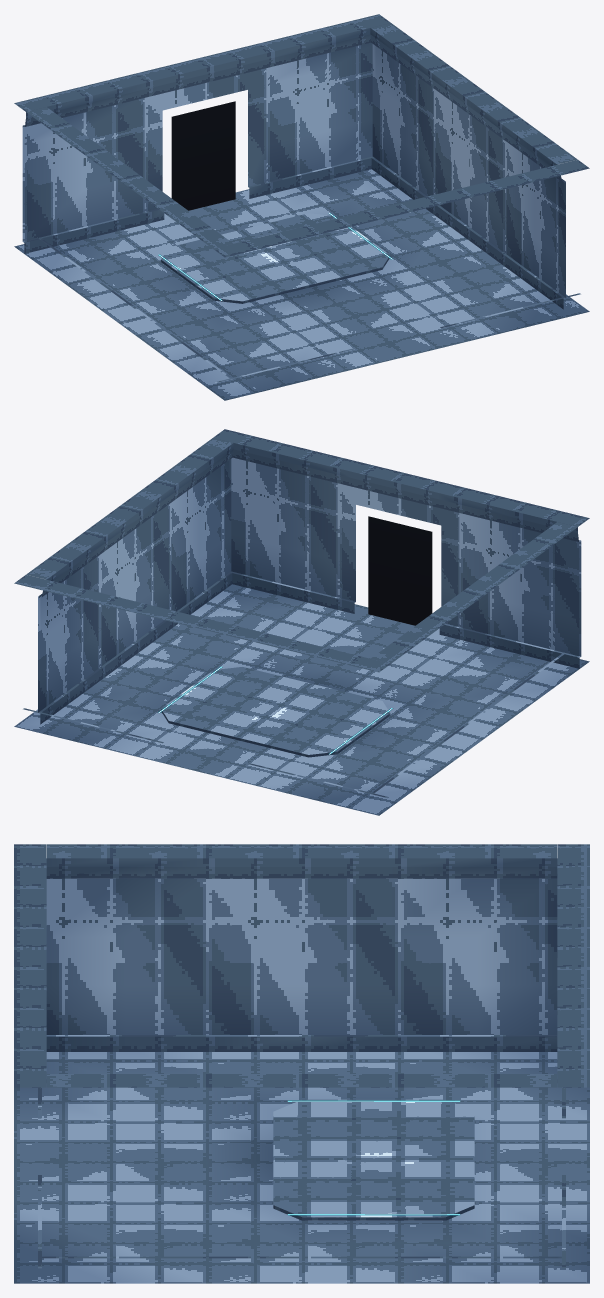
The model's file is cyroom.club.glb.
3 renders of one model, top to bottom at view 1: azimuth 30°, elevation 25°; view 2: azimuth 150°, elevation 25°; view 3: azimuth 270°, elevation 25°, orthographic. The views are drawn at different scales.
Visible parts, largest first — view 1: kit_shell_walls, kit_shell_floor, kit_trim, kit_card_lights; view 2: kit_shell_walls, kit_shell_floor, kit_trim, kit_card_lights; view 3: kit_shell_walls, kit_shell_floor, kit_trim, kit_card_lights.
Boxes of the visible parts, left/top/right/bottom form: kit_shell_walls: left=14, top=14, right=589, bottom=383; kit_shell_floor: left=14, top=169, right=589, bottom=400; kit_trim: left=161, top=213, right=390, bottom=303; kit_card_lights: left=158, top=101, right=392, bottom=300; kit_shell_walls: left=14, top=429, right=589, bottom=798; kit_shell_floor: left=14, top=584, right=589, bottom=815; kit_trim: left=161, top=667, right=390, bottom=757; kit_card_lights: left=158, top=516, right=432, bottom=754; kit_shell_walls: left=14, top=844, right=589, bottom=1268; kit_shell_floor: left=14, top=1052, right=589, bottom=1283; kit_trim: left=273, top=1099, right=474, bottom=1220; kit_card_lights: left=287, top=1100, right=460, bottom=1215.
Size of the model in its own units: 12 by 4.54 by 12.
7 materials, 7 textured.
